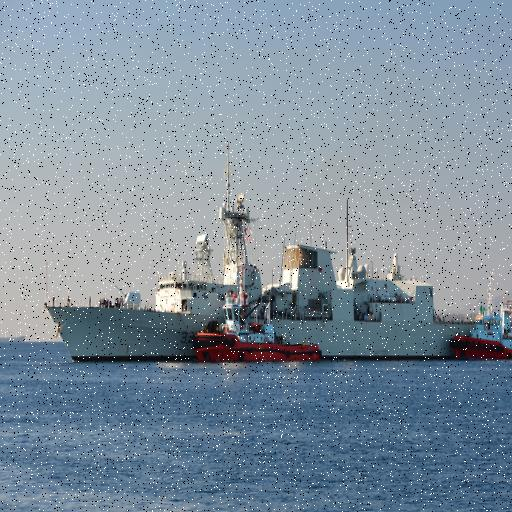Fragata: (41, 130, 512, 358)
